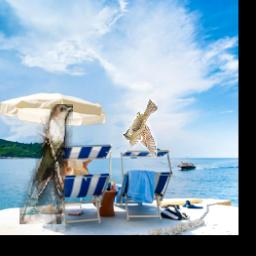Cuckoo: (20, 105, 73, 225)
Sparrow: (122, 100, 157, 159)
